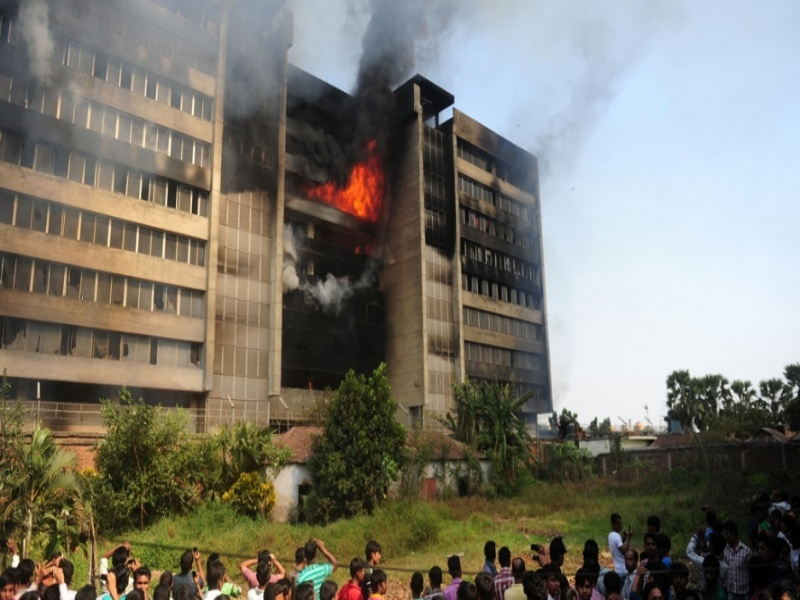smoke: (175, 1, 422, 144)
